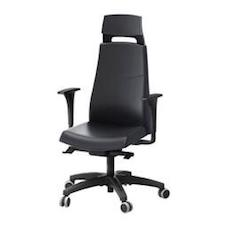chair: (44, 7, 175, 225)
